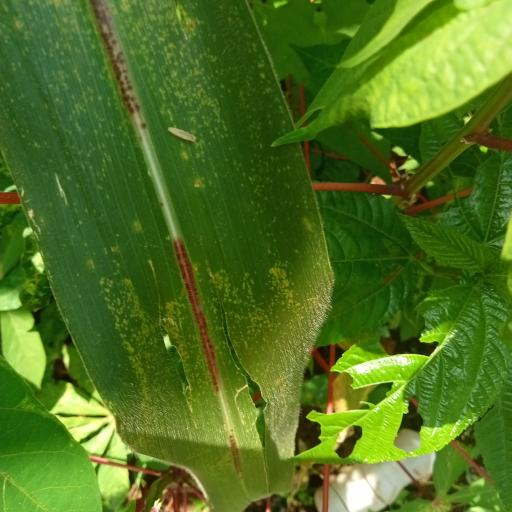Corn_Brown_Spots: (10, 0, 348, 488)
